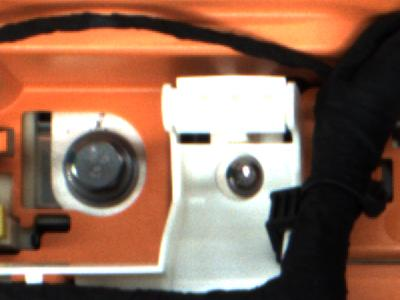nut_b: (58, 125, 149, 213)
